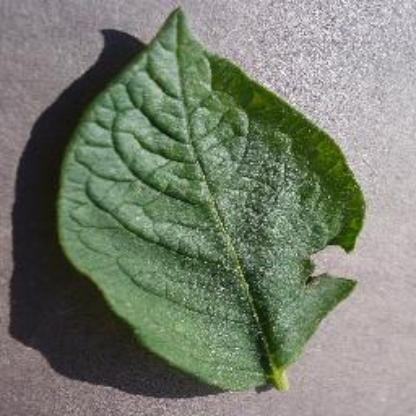Healthy-plant: (49, 6, 370, 394)
